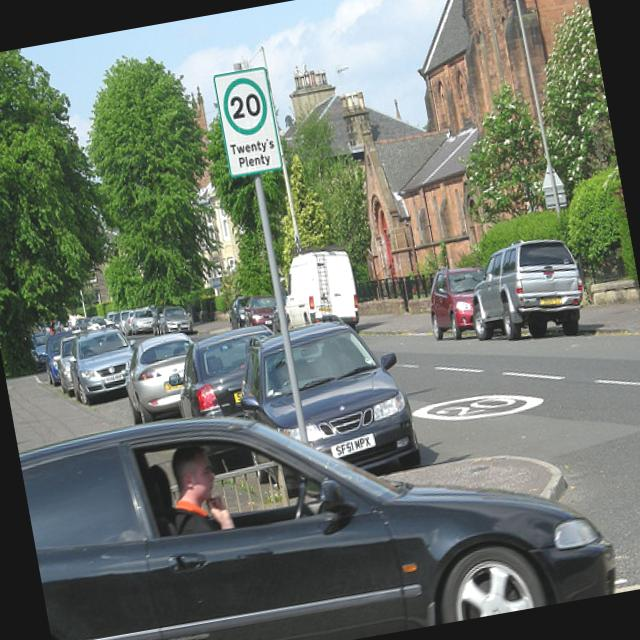Vehicle: (16, 338, 629, 640), (229, 306, 422, 482), (22, 278, 256, 366), (459, 232, 592, 354), (161, 322, 289, 428), (274, 242, 363, 341), (119, 329, 205, 424), (61, 319, 146, 412), (421, 262, 496, 342), (52, 334, 86, 400), (40, 338, 72, 387), (247, 294, 281, 334), (156, 304, 195, 338), (128, 306, 158, 334)
